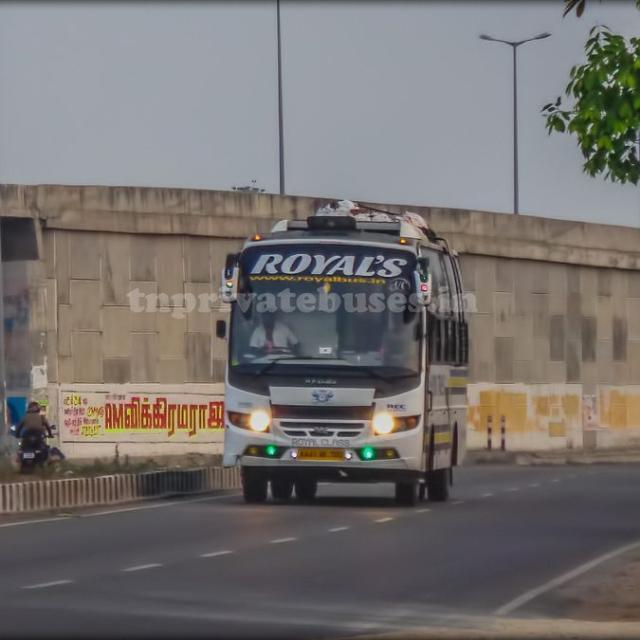Bus: (210, 214, 472, 506)
